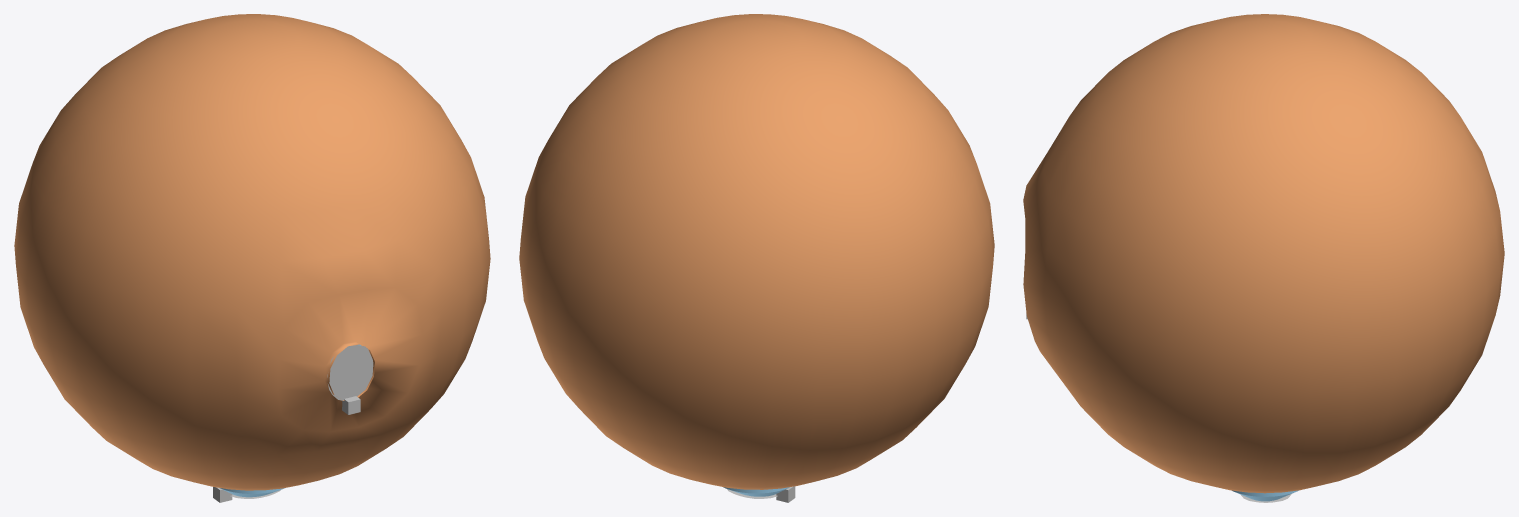
Rendered from BubbleRoom.fbx.
The picture shows the model from 3 angles, left to right: view 1: azimuth 30°, elevation 25°; view 2: azimuth 150°, elevation 25°; view 3: azimuth 270°, elevation 25°; orthographic projection.
Visible parts, largest first — view 1: Sphere, CorridorCorner_Door2.001; view 2: Sphere; view 3: Sphere.
Boxes of the visible parts, left/top/right/bottom form: Sphere: left=14, top=14, right=490, bottom=490; CorridorCorner_Door2.001: left=327, top=345, right=373, bottom=400; Sphere: left=519, top=14, right=994, bottom=489; Sphere: left=1023, top=14, right=1504, bottom=493.
Bounding box in the file's own units: 3385 × 3570 × 3399.
